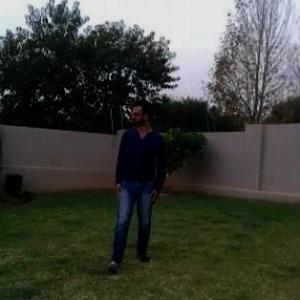follow: (112, 88, 164, 263)
